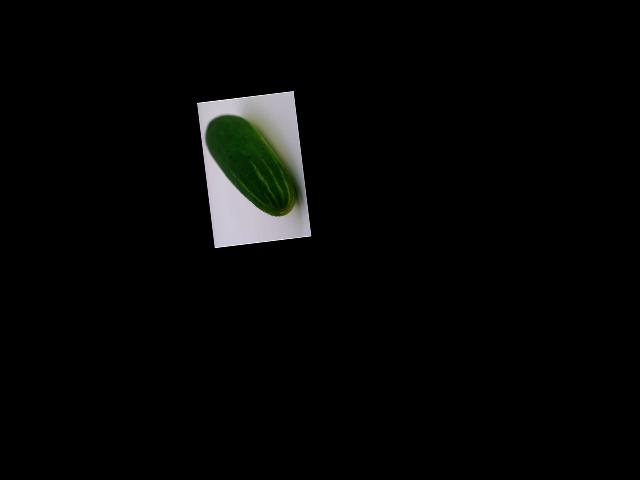cucumber: (203, 107, 298, 223)
